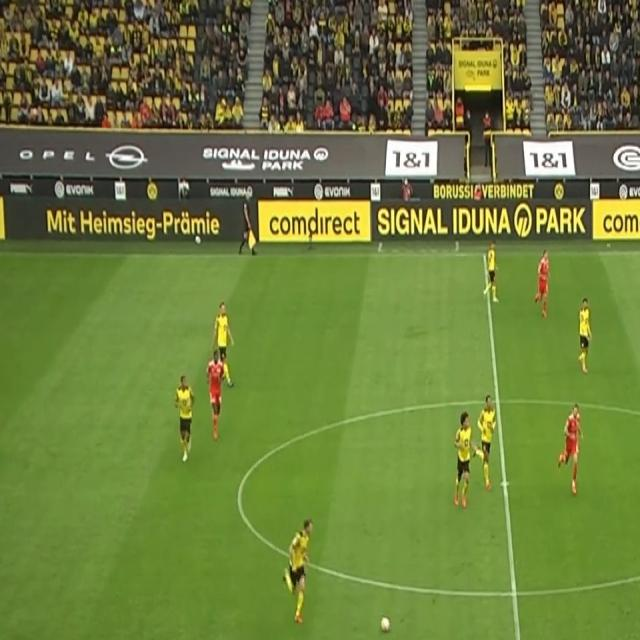ball: (378, 614, 392, 636)
